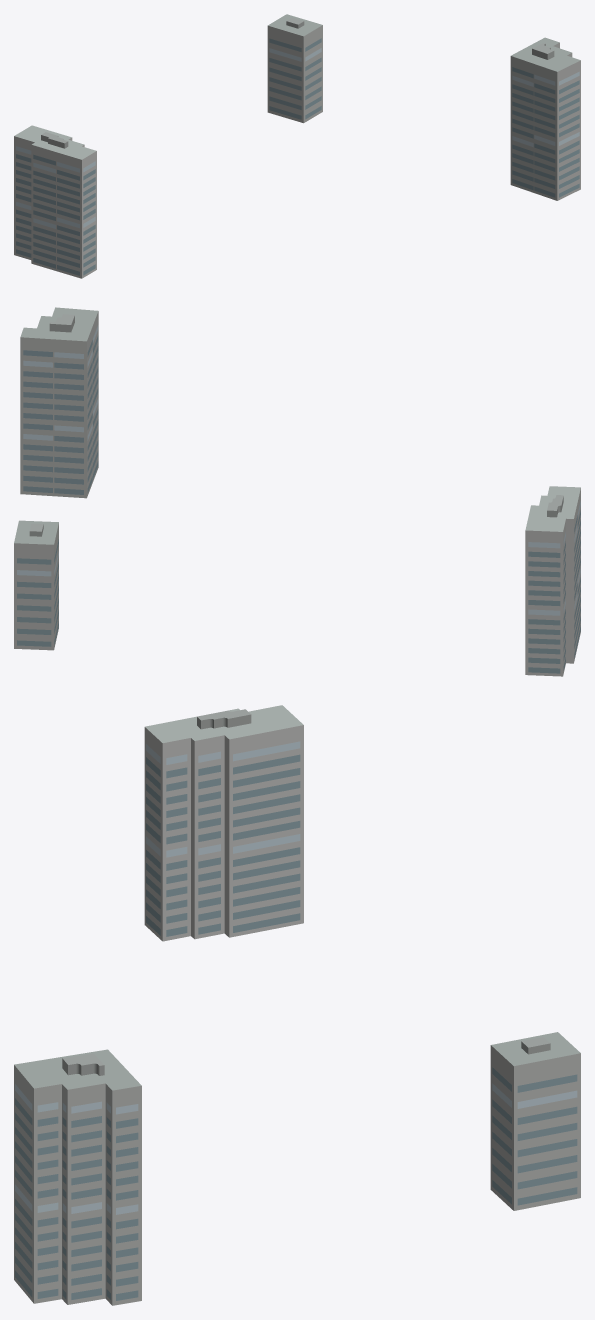
File: apt-a10024131.glb
The picture shows the model from 3 angles, top to bottom: view 1: azimuth 30°, elevation 25°; view 2: azimuth 150°, elevation 25°; view 3: azimuth 270°, elevation 25°; orthographic projection. The views are drawn at different scales.
Visible parts, largest first — view 1: apt-a10024131; view 2: apt-a10024131; view 3: apt-a10024131.
Boxes of the visible parts, x1,y1,x2,y2 form: apt-a10024131: (14, 14, 580, 278); apt-a10024131: (14, 307, 580, 676); apt-a10024131: (14, 705, 580, 1305).
Bounding box in the file's own units: 199 × 52 × 119.
